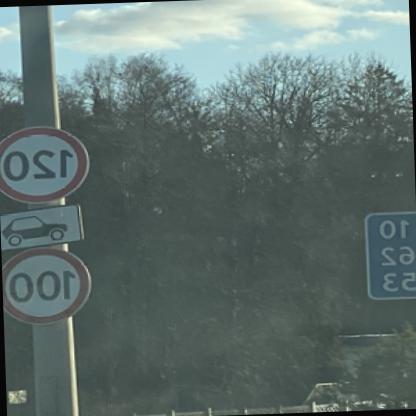speedlimit: (0, 124, 92, 204), (2, 244, 92, 324)
